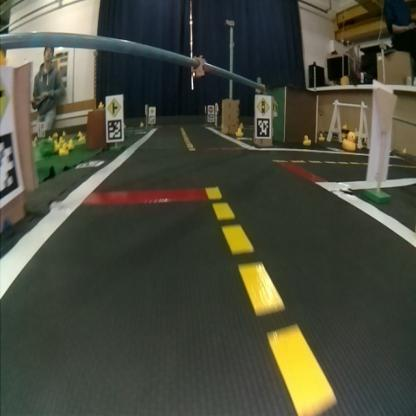Duckie: (342, 134, 356, 148), (236, 127, 244, 136), (304, 135, 310, 144), (62, 145, 68, 153), (320, 132, 325, 140), (70, 139, 74, 147)
Intersection sign: (107, 94, 124, 115)
QR code: (108, 118, 123, 140), (258, 117, 270, 137)
Signal sign: (258, 96, 270, 114)
Traffic light: (194, 55, 206, 77)
